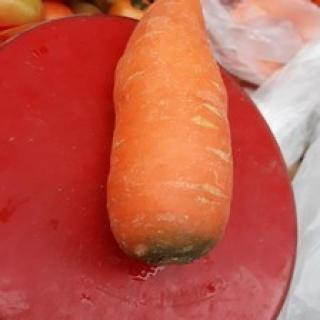carrot: (109, 0, 235, 263)
